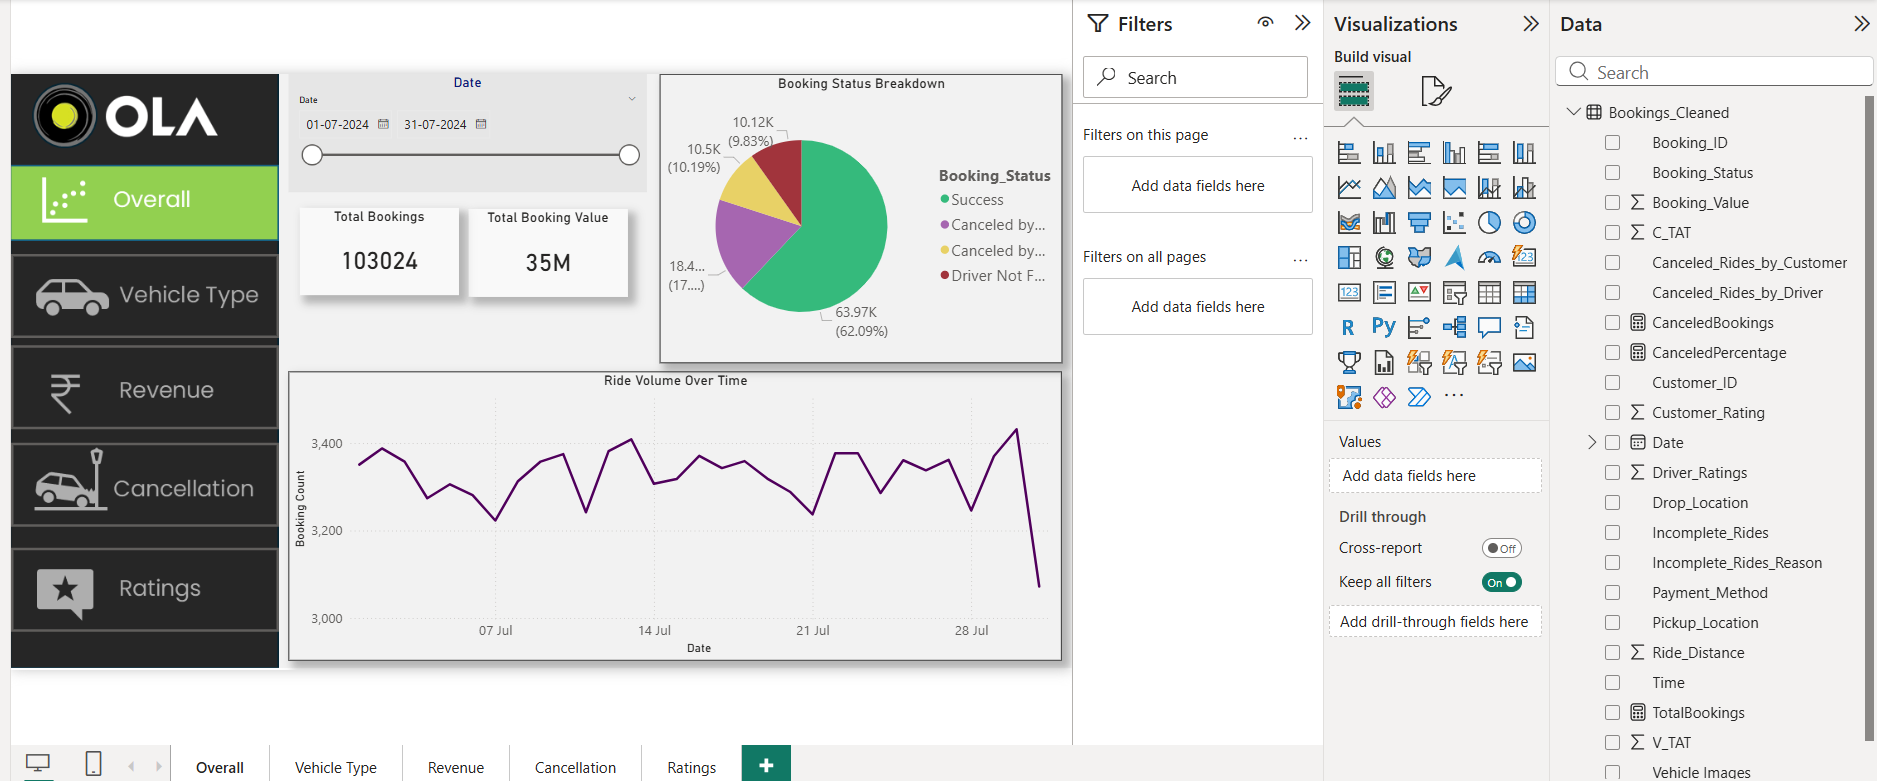

The dashboard page shown, as its layout file describes it:
{"tool":"powerbi","page":{"name":"Overall","canvas":[1280,720],"ordinal":0},"visuals":[{"type":"actionButton","box":[0,217.2,323.3,101.3],"z":0},{"type":"actionButton","box":[0,326.9,323.3,101.3],"z":1000},{"type":"actionButton","box":[0,445.2,323.3,101.3],"z":2000},{"type":"actionButton","box":[0,571.9,323.3,101.3],"z":3000},{"type":"lineChart","title":"Ride Volume Over Time","fields":{"Category":["Bookings_Cleaned.Date"],"Y":["CountNonNull(Bookings_Cleaned.Booking_ID)"]},"box":[334.8,359.5,933.1,348.5],"z":4000},{"type":"pieChart","title":"Booking Status Breakdown","fields":{"Category":["Bookings_Cleaned.Booking_Status"],"Y":["CountNonNull(Bookings_Cleaned.Booking_Status)"]},"box":[782.2,0,485.8,348.5],"z":5000},{"type":"slicer","title":"Date","fields":{"Values":["Bookings_Cleaned.Date"]},"box":[334.8,0,432.2,141.3],"z":6000},{"type":"card","title":"Total Bookings","fields":{"Values":["Count(Bookings_Cleaned.Booking_ID)"]},"box":[348.5,161.9,192.1,105.7],"z":7000},{"type":"card","title":"Total Booking Value","fields":{"Values":["Sum(Bookings_Cleaned.Booking_Value)"]},"box":[551.6,163.3,192.1,105.7],"z":8000}]}

Visuals, with their boxes on the page's 1280x720 design canvas (x1, y1, x2, y2). These are canvas units, not pixel positions in the 1877x781 screenshot, which may show the page scaled, cropped or inside an application window:
actionButton: x1=0 y1=217 x2=323 y2=318
actionButton: x1=0 y1=327 x2=323 y2=428
actionButton: x1=0 y1=445 x2=323 y2=546
actionButton: x1=0 y1=572 x2=323 y2=673
"Ride Volume Over Time" lineChart: x1=335 y1=360 x2=1268 y2=708
"Booking Status Breakdown" pieChart: x1=782 y1=0 x2=1268 y2=348
"Date" slicer: x1=335 y1=0 x2=767 y2=141
"Total Bookings" card: x1=348 y1=162 x2=541 y2=268
"Total Booking Value" card: x1=552 y1=163 x2=744 y2=269
